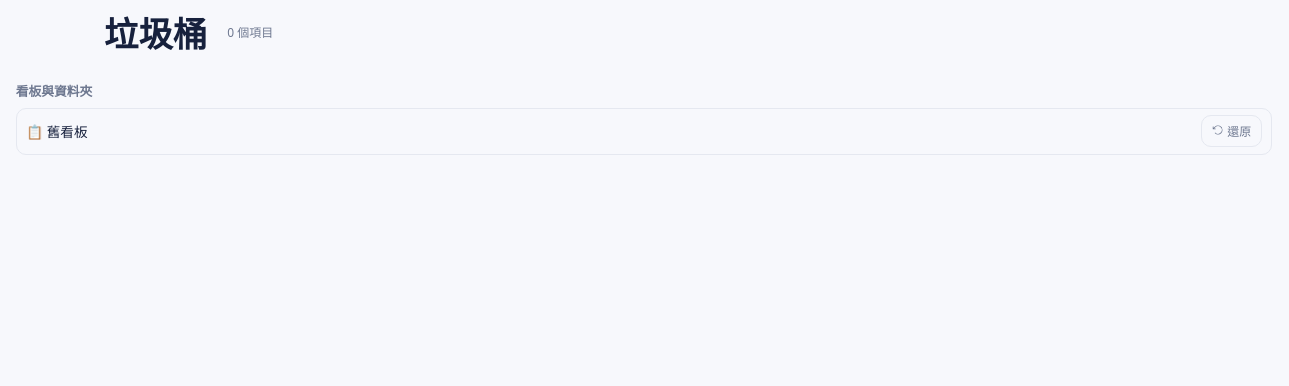
Scenario: TrashView restore section › restoring a board calls the command, hides the row and notifies the sidebar
Expected: the text "📋 舊看板" is shown, [26,122,88,141]
Step 1. Click the button "還原" → {"x": 1232, "y": 131}, box [1202,115,1262,147]
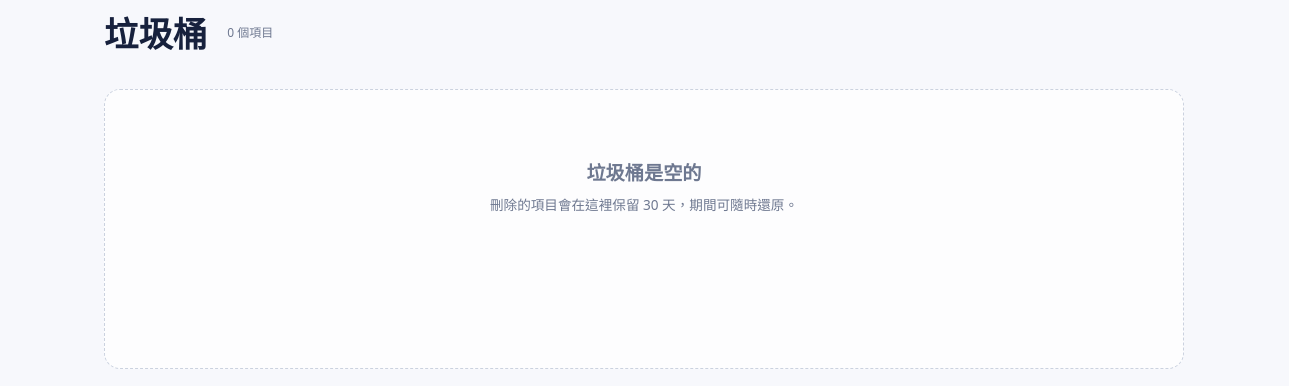
Result: the text "舊看板" is gone
